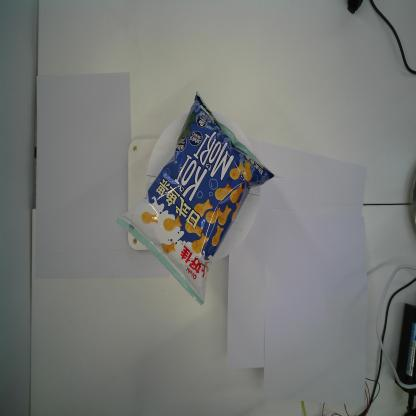Puffed Food: (115, 90, 275, 307)
